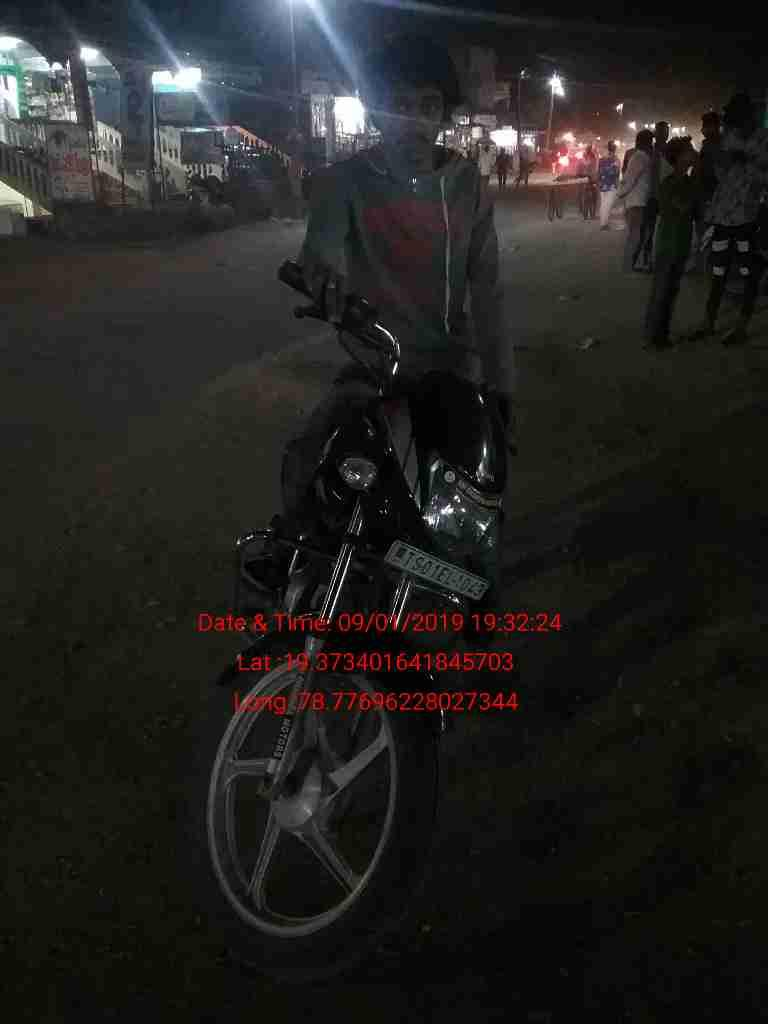plate: (380, 528, 510, 614)
